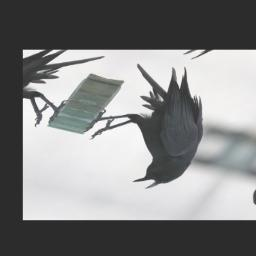Crow: (52, 57, 256, 194)
